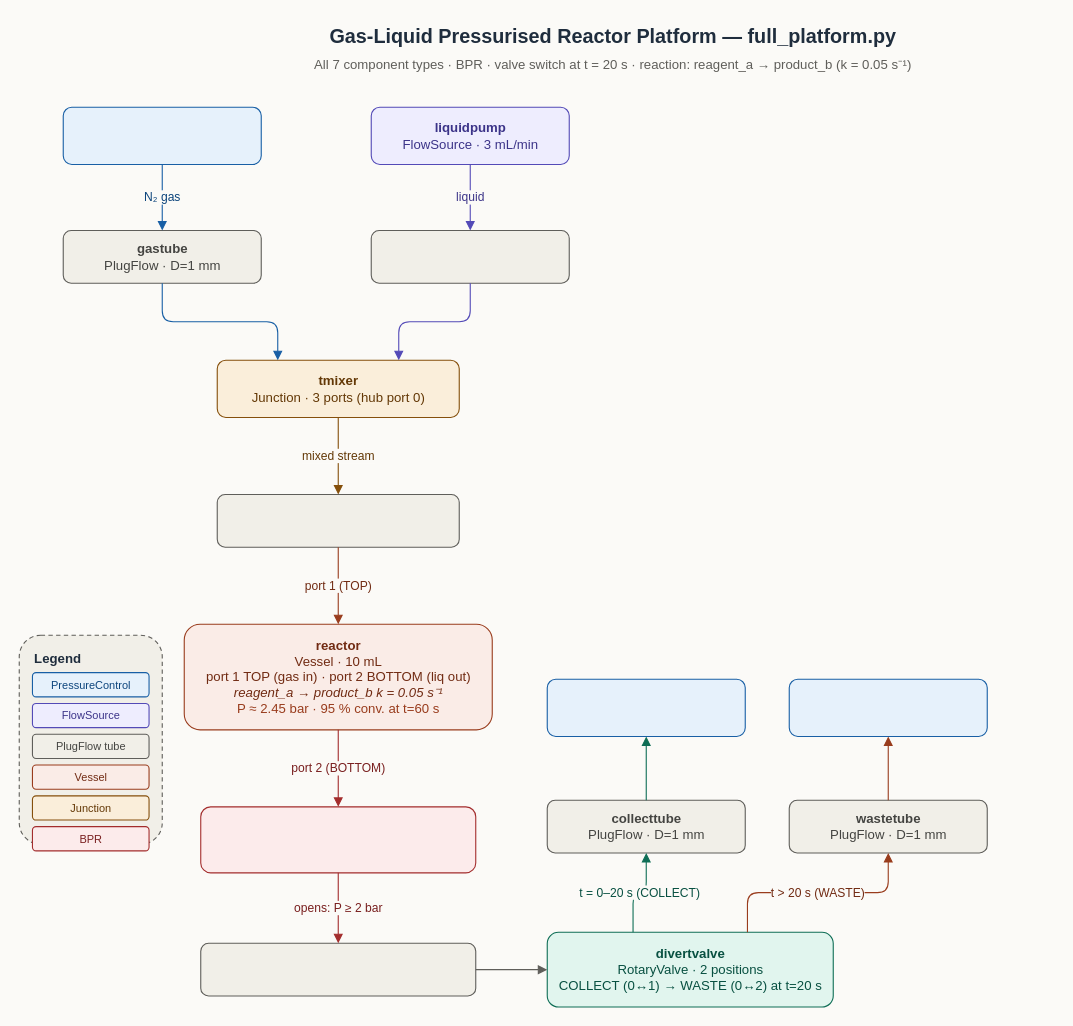
Image size: 1073x1026. Some labels were removed from this diagram. The centre of each missing label's shape, as x and y in pixels:
"bpr BackPressureRegulator · setpoint 2 bar opens when P_upstream ≥ 2 bar" goes at point (338, 839).
"gassupply PressureControl · 3 bar" goes at point (161, 135).
"liquidtube PlugFlow · D=1 mm" goes at point (469, 256).
"outlettube PlugFlow · D=1.5 mm" goes at point (338, 969).
"productsink PressureControl · 1 bar" goes at point (645, 707).
"reactortube PlugFlow · D=2 mm · 5 cm" goes at point (337, 520).
"wastesink PressureControl · 1 bar" goes at point (887, 707).
